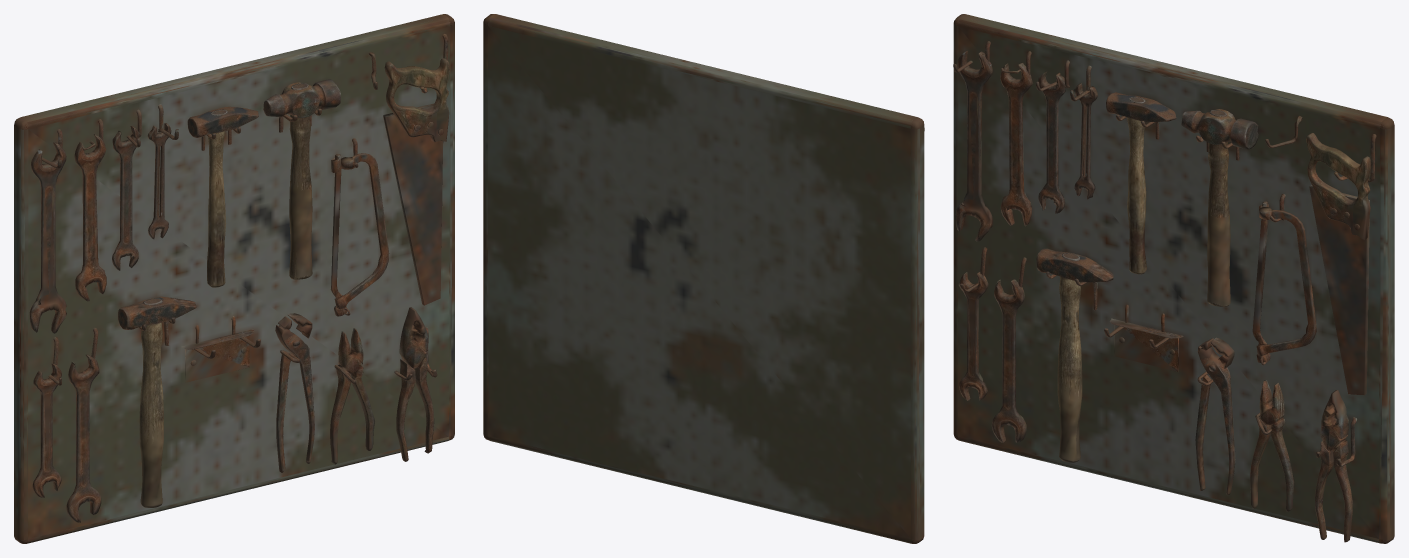
File: silo81_toolboard.glb
3 views of the same model, side by side, from view 1: azimuth 30°, elevation 25°; view 2: azimuth 150°, elevation 25°; view 3: azimuth 330°, elevation 25° (orthographic).
Size of the model in its own units: 0.9565 by 0.8906 by 0.1118.
1 material, 1 textured.
